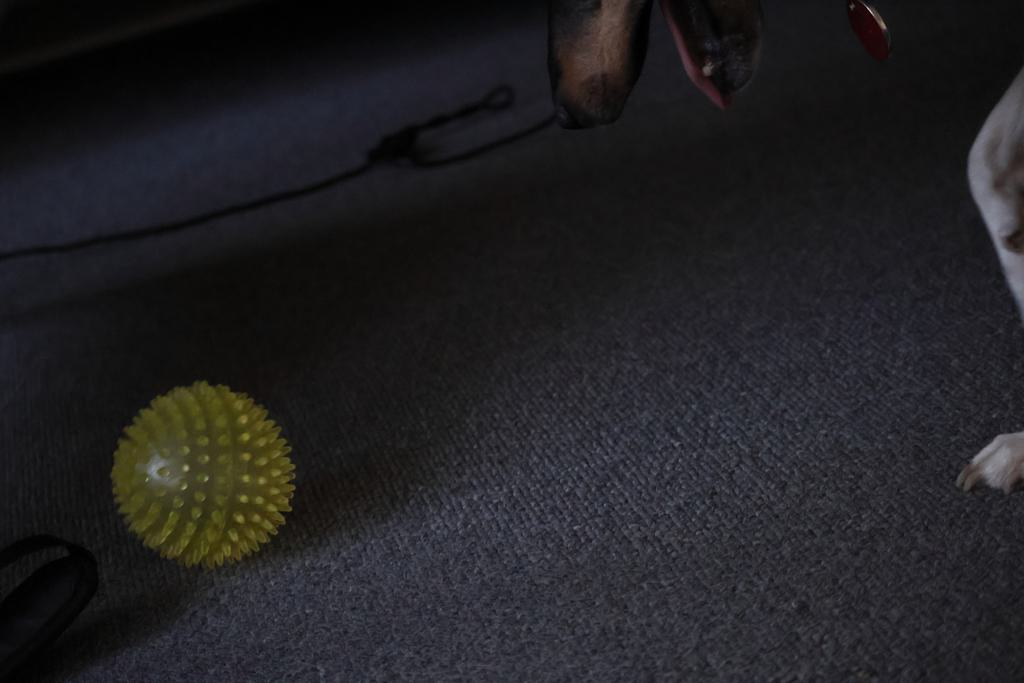Dog: (518, 0, 1024, 506)
